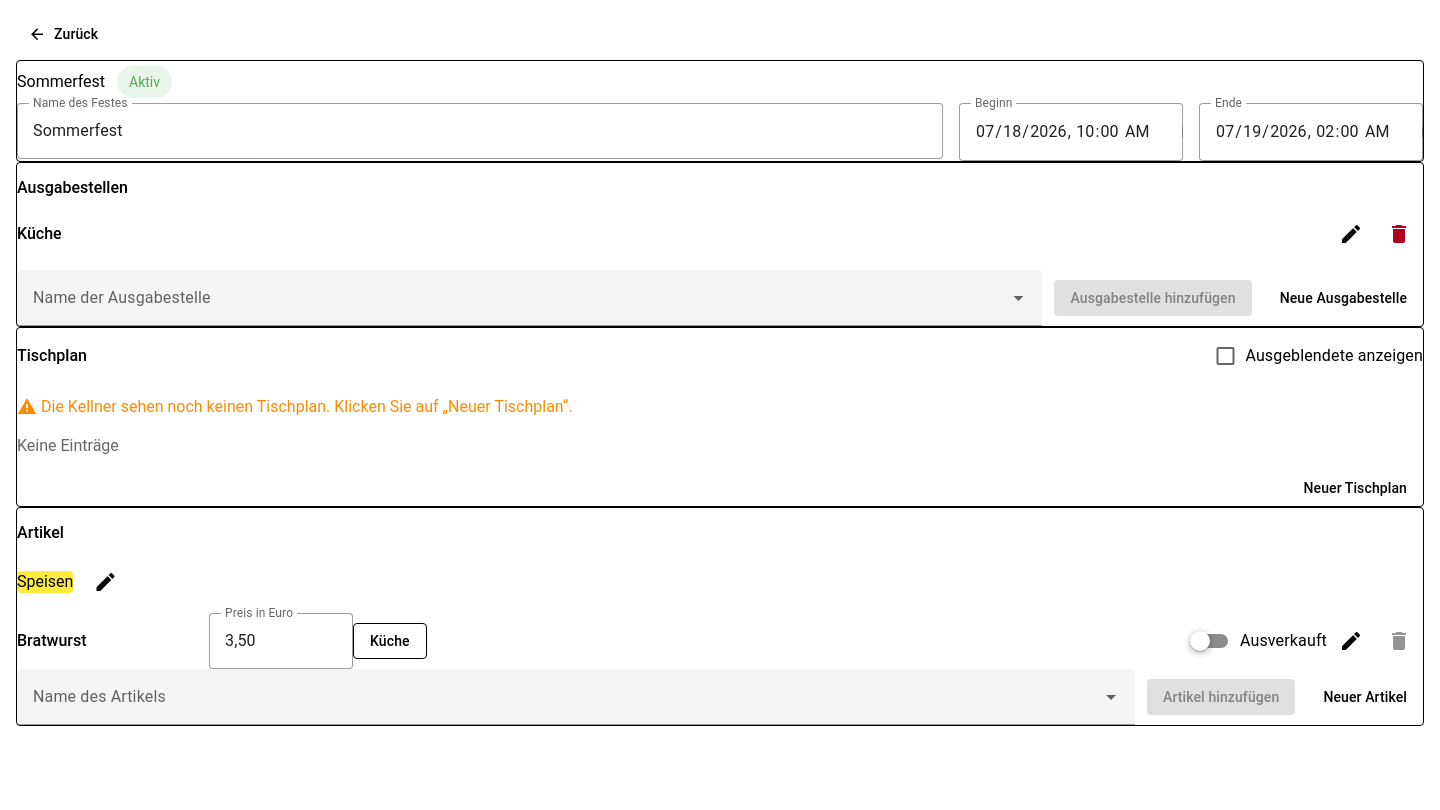
Test: the stations of this festival › renames the station through the dialog on its row
The image size is (1440, 810).
Click the button with test id "edit-station".
click(1351, 234)  # box [1327, 210, 1375, 258]
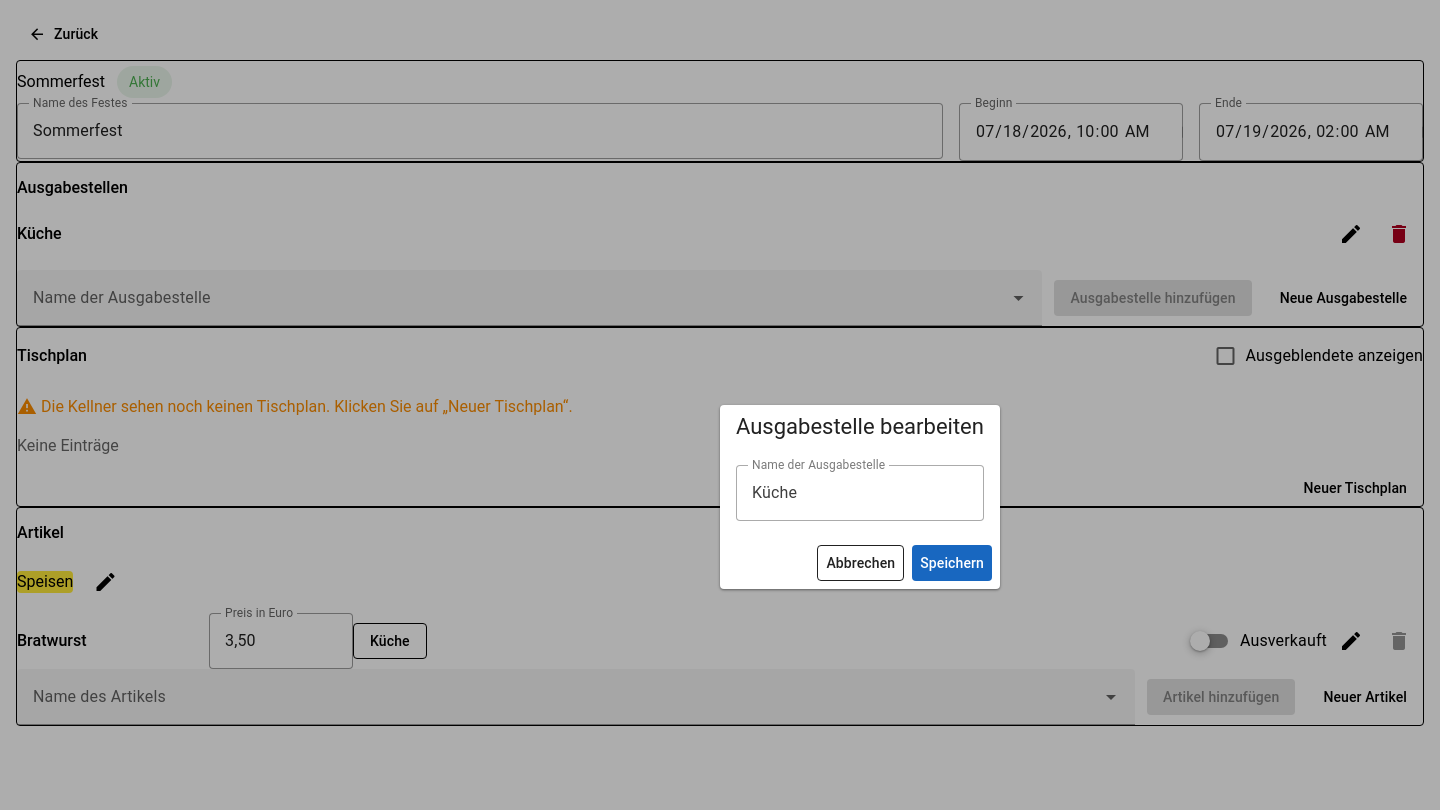
Expected: the element with test id "station-name-field" is shown
Replace the text in the field labelled "Name der Ausgabestelle" with "Küche Nord" at {"x": 860, "y": 493}, box [736, 465, 984, 521]
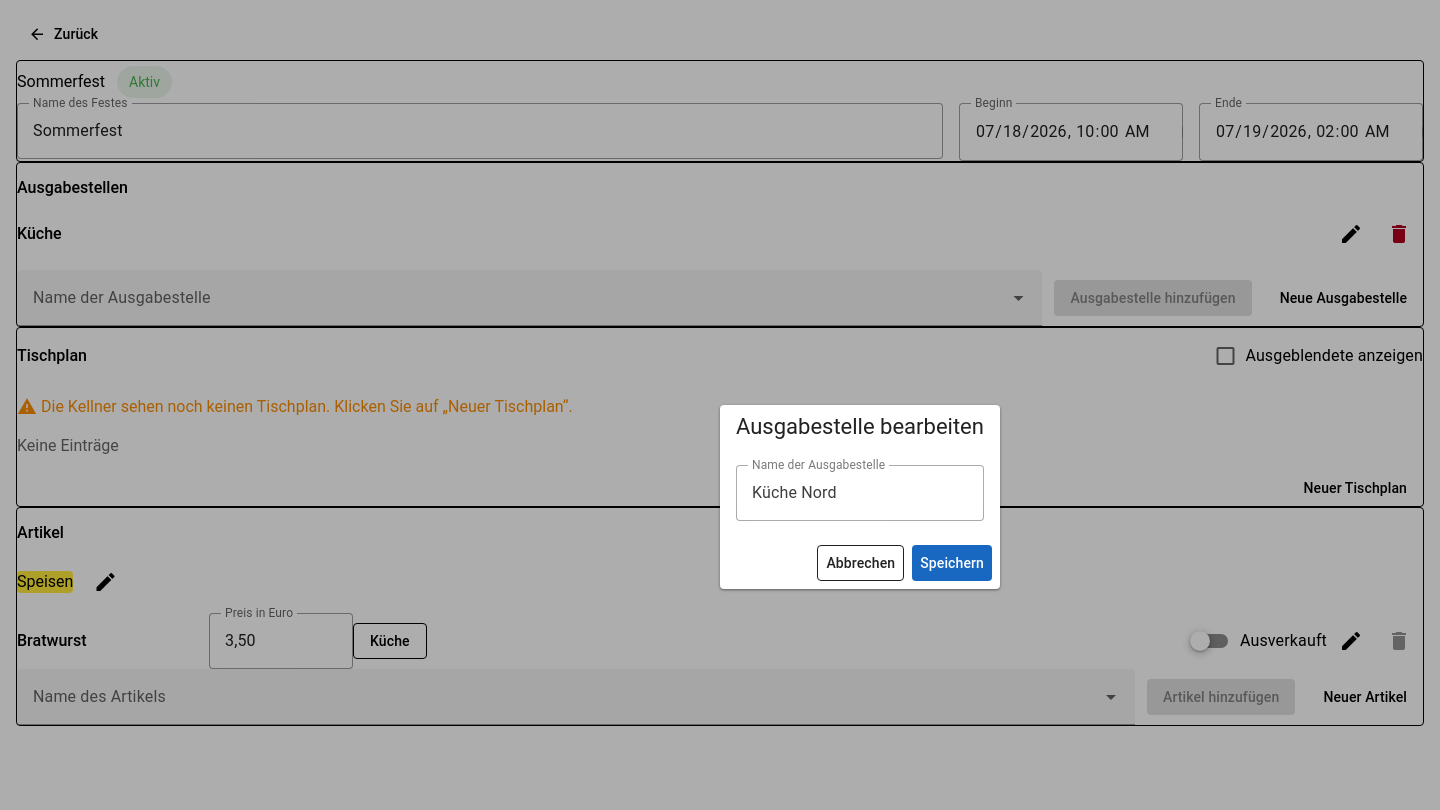
Click the button with test id "form-save".
click(952, 563)  # box [912, 545, 992, 581]
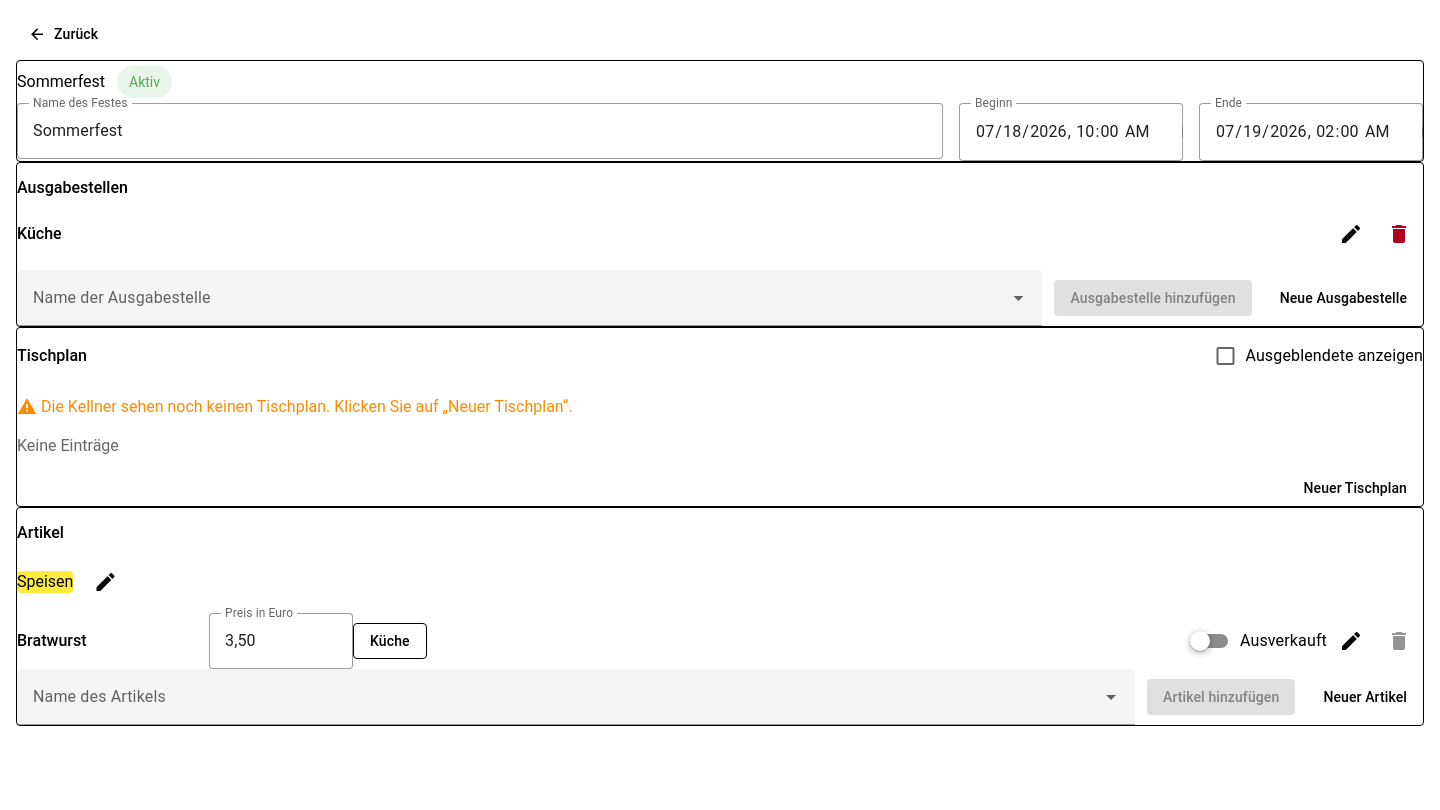
Expected: the element with test id "form-dialog" is gone
